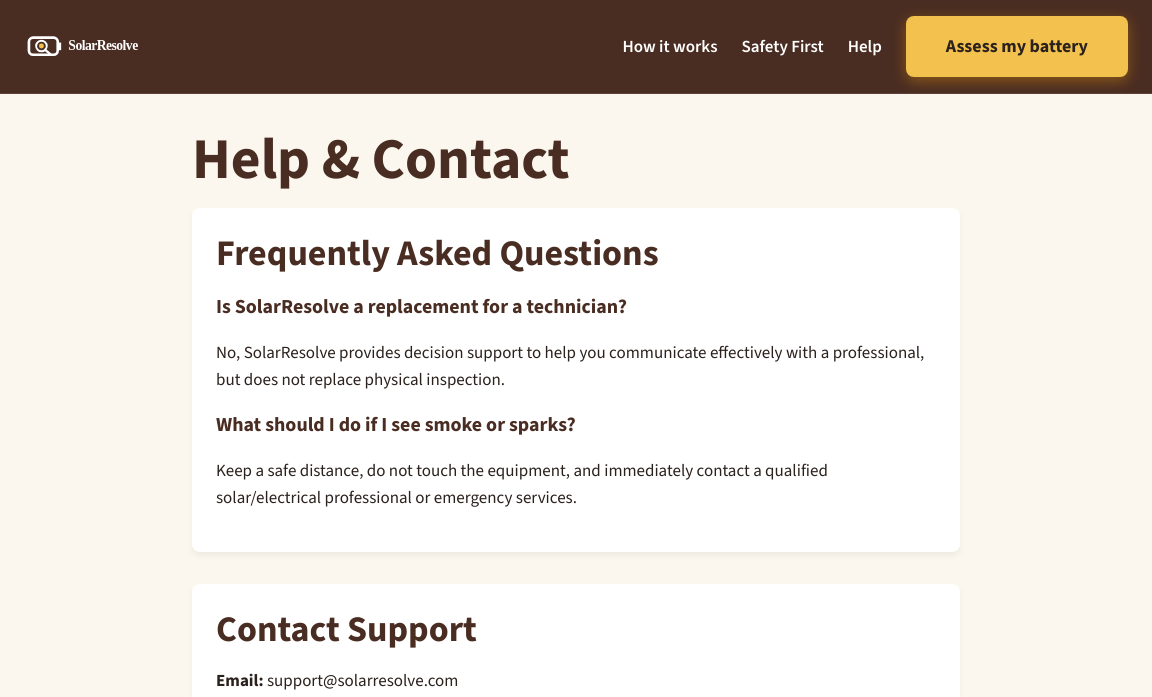
Test: SolarResolve MVP - Day 3 › opens safety guidance from the header on another route
Click the link "Safety First" at (783, 46), box [742,33,824,60]
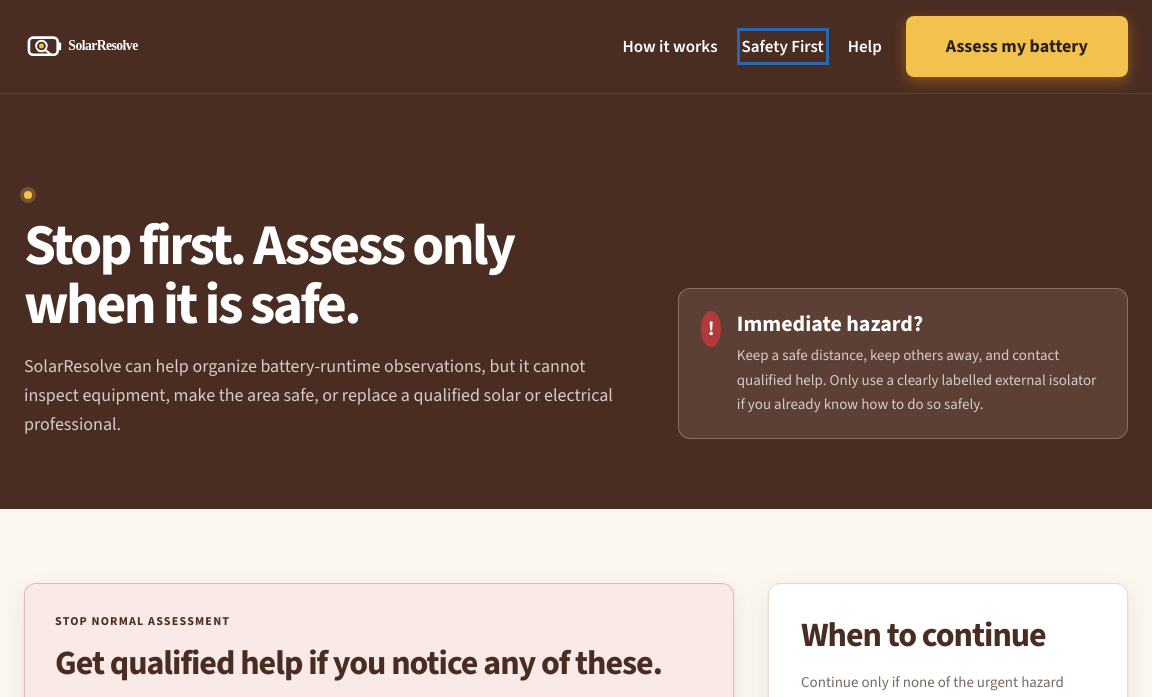
Expected: the heading "Stop first. Assess only when it is safe." is shown, [24,206,513,342]
